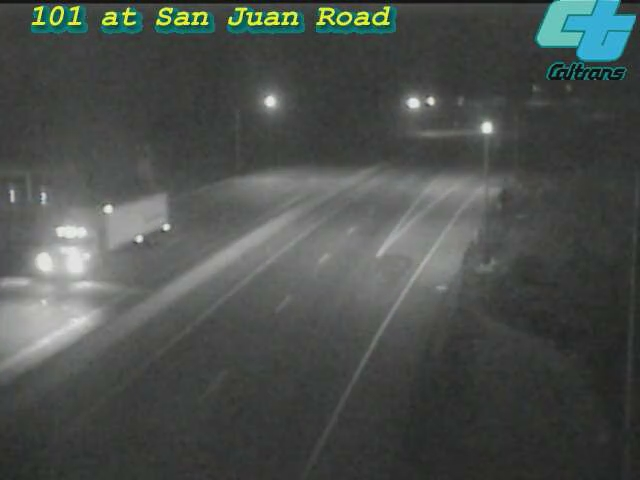vehicle: (72, 192, 152, 272), (465, 102, 515, 152)
